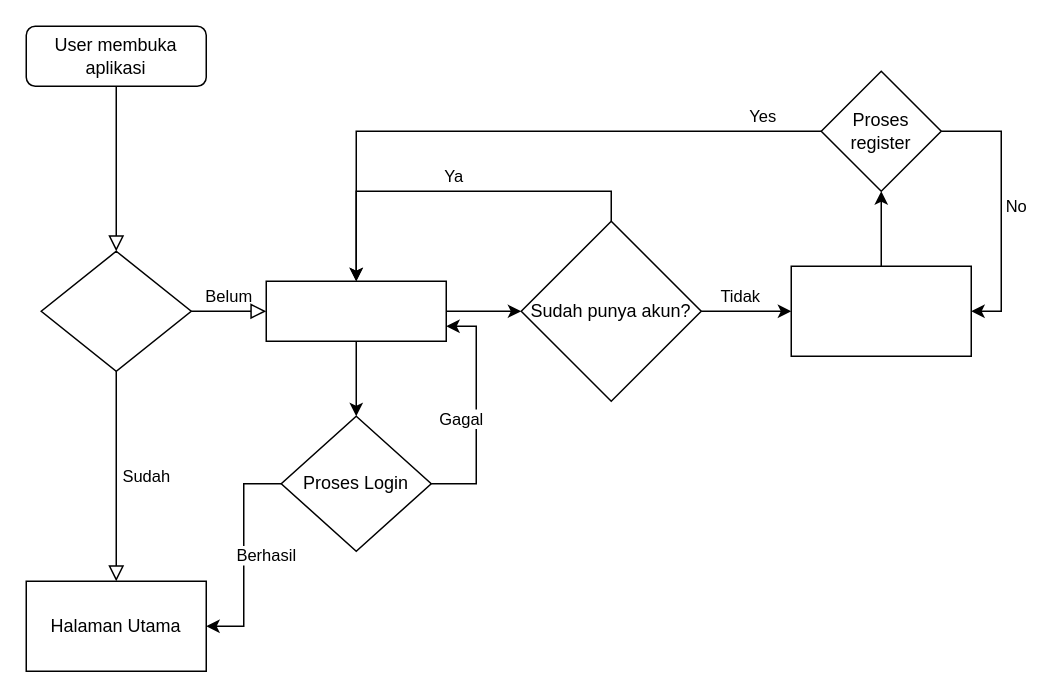
This 1053x698 diagram has some shape labels left out. Each missing label, with the box of its shape:
Sudah login ?: (40, 250, 191, 371)
User Login: (265, 280, 446, 341)
User Register: (790, 265, 971, 356)
